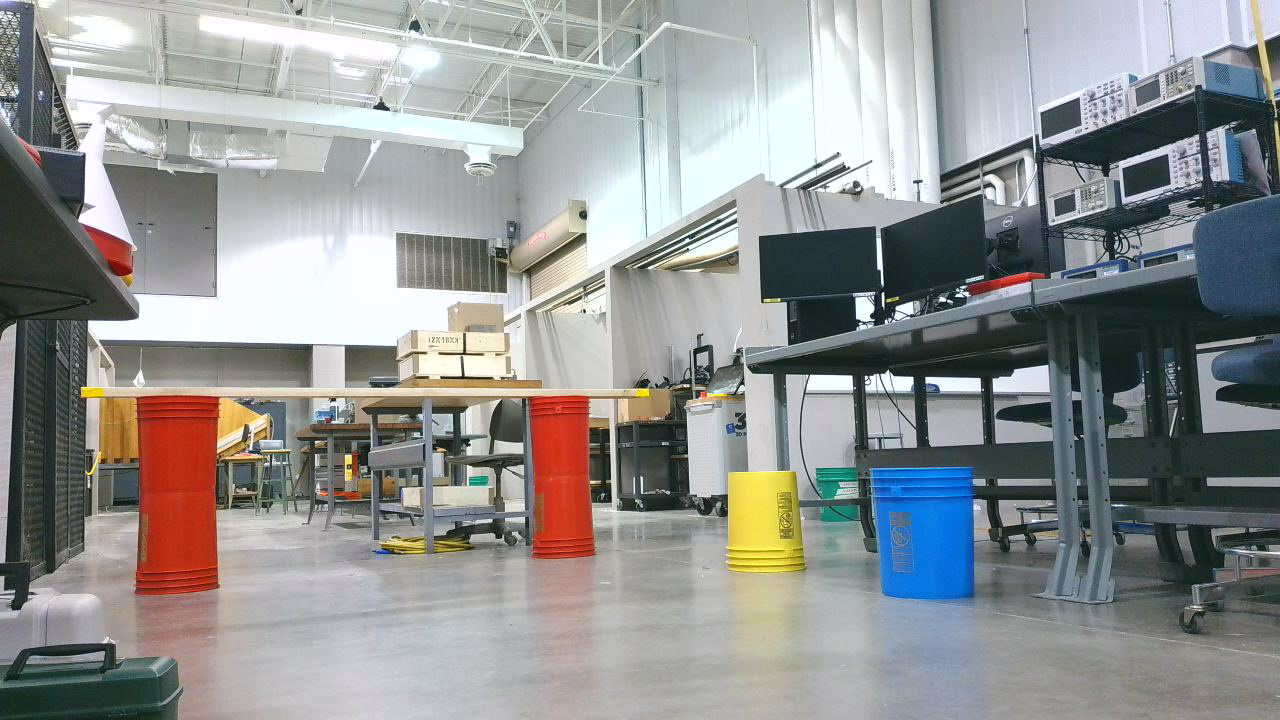blue_bucket: (871, 470, 989, 608)
red_bucket_arch: (132, 391, 604, 604)
yellow_bucket: (723, 473, 816, 579)
